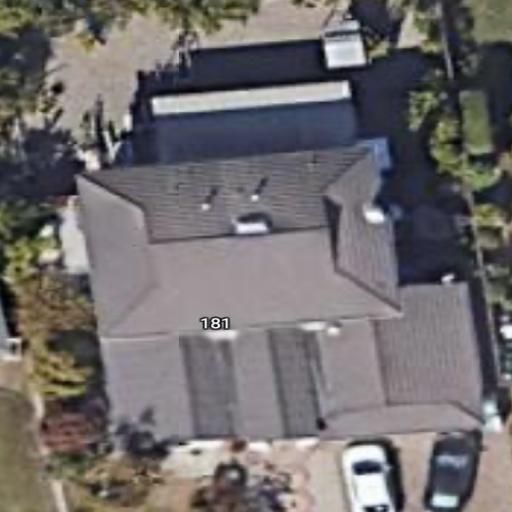Slope-Roof: (79, 145, 401, 338)
